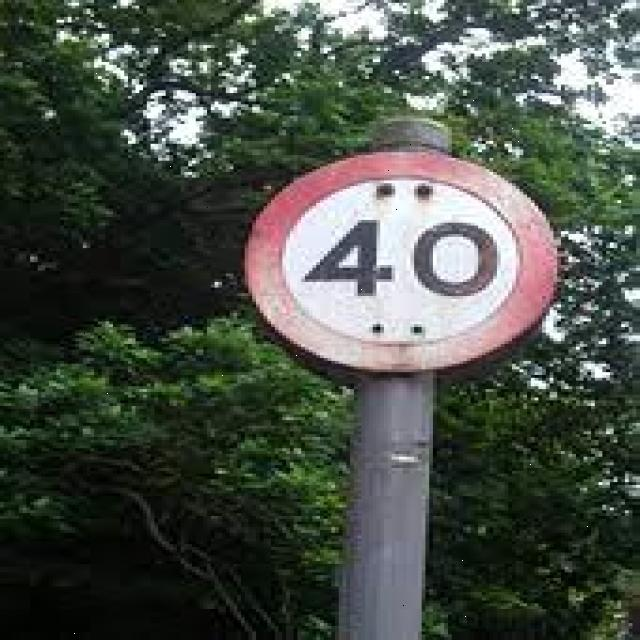speed limit 40: (243, 154, 562, 371)
